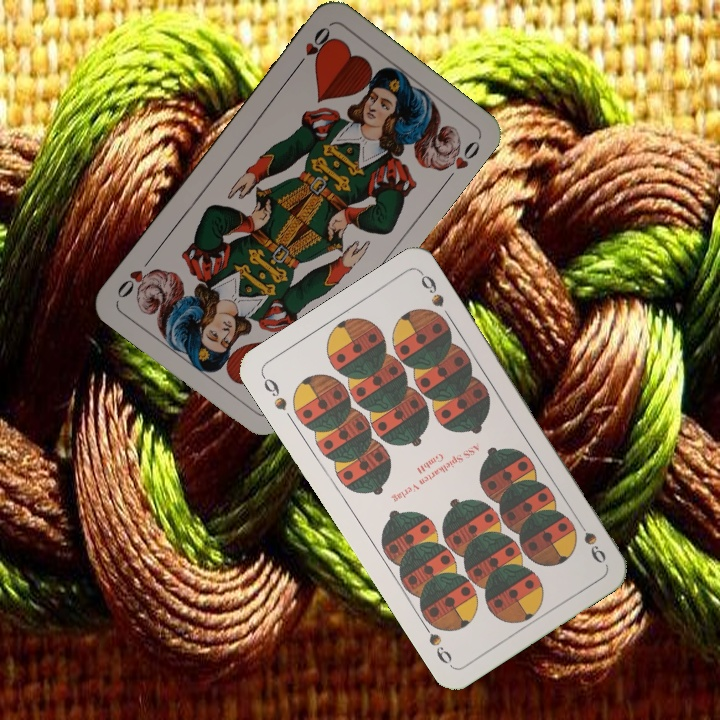HO: (291, 22, 335, 72)
S9: (571, 513, 609, 567), (258, 371, 290, 413)
